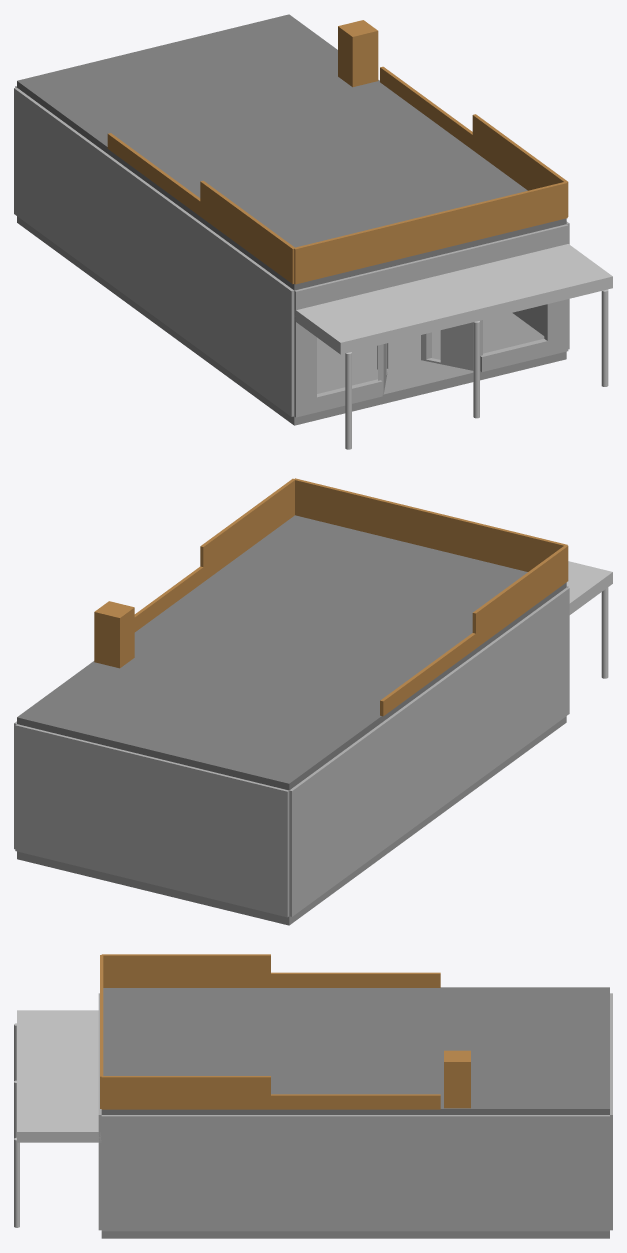
The model's file is building_phase_1a_iter_010.glb.
3 renders of one model, top to bottom at view 1: azimuth 30°, elevation 25°; view 2: azimuth 150°, elevation 25°; view 3: azimuth 270°, elevation 25°, orthographic. The views are drawn at different scales.
Visible parts, largest first — view 1: Roof, Wall_Left, Canopy_Roof, Wall_Front, Foundation, Parapet_Front, Parapet_Left_Front, Parapet_Right_Front, Chimney, Alcove_Wall_Right, Parapet_Left_Middle, Parapet_Right_Middle (+4 smaller); view 2: Roof, Wall_Left, Wall_Rear, Parapet_Front, Foundation, Parapet_Left_Front, Parapet_Right_Front, Chimney, Parapet_Left_Middle, Canopy_Roof, Parapet_Right_Middle, Canopy_Post_1; view 3: Wall_Right, Roof, Canopy_Roof, Parapet_Right_Front, Parapet_Left_Front, Foundation, Parapet_Left_Middle, Parapet_Right_Middle, Chimney, Wall_Front, Wall_Rear, Parapet_Front (+1 smaller).
Part boxes in pixels (x1,y1,x2,y2): Roof: (17, 14, 566, 290); Wall_Left: (14, 87, 294, 416); Canopy_Roof: (294, 244, 612, 354); Wall_Front: (294, 224, 568, 417); Foundation: (17, 216, 566, 425); Parapet_Front: (294, 182, 567, 284); Parapet_Left_Front: (200, 180, 295, 283); Parapet_Right_Front: (472, 114, 568, 216); Chimney: (338, 20, 378, 87); Alcove_Wall_Right: (421, 320, 482, 370); Parapet_Left_Middle: (107, 133, 200, 216); Parapet_Right_Middle: (380, 66, 472, 149); Roof: (17, 515, 566, 790); Wall_Left: (289, 587, 569, 916); Wall_Rear: (15, 724, 289, 917); Parapet_Front: (295, 478, 567, 571); Foundation: (17, 716, 566, 925); Parapet_Left_Front: (472, 545, 568, 648); Parapet_Right_Front: (200, 478, 295, 581); Chimney: (94, 601, 134, 668); Parapet_Left_Middle: (380, 633, 475, 716); Canopy_Roof: (566, 561, 612, 614); Parapet_Right_Middle: (134, 566, 203, 632); Canopy_Post_1: (601, 587, 608, 678); Wall_Right: (101, 1115, 609, 1231); Roof: (101, 987, 609, 1114); Canopy_Roof: (17, 1010, 101, 1142); Parapet_Right_Front: (101, 1076, 270, 1109); Parapet_Left_Front: (101, 954, 270, 987); Foundation: (101, 1231, 609, 1238); Parapet_Left_Middle: (271, 972, 440, 987); Parapet_Right_Middle: (271, 1094, 440, 1109); Chimney: (444, 1050, 470, 1108); Wall_Front: (98, 993, 101, 1230); Wall_Rear: (610, 993, 612, 1230); Parapet_Front: (100, 955, 103, 1108).
Size of the model in its own units: 8.68 by 5.73 by 17.68.
